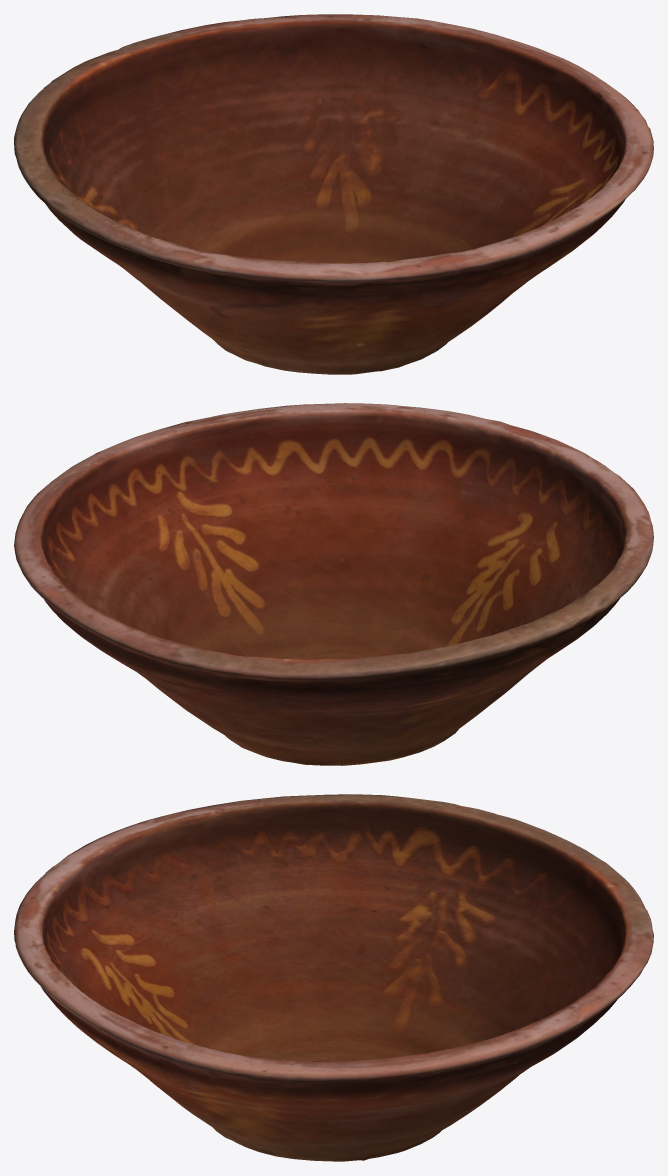
The model's file is bowl export.fbx.
3 renders of one model, top to bottom at view 1: azimuth 30°, elevation 25°; view 2: azimuth 150°, elevation 25°; view 3: azimuth 270°, elevation 25°, orthographic.
Parts seen in each view (by area): view 1: Sphere001.001; view 2: Sphere001.001; view 3: Sphere001.001.
Part boxes in pixels (x1,y1,x2,y2): Sphere001.001: (14, 14, 653, 374); Sphere001.001: (14, 403, 653, 765); Sphere001.001: (14, 794, 653, 1161).
Bounding box in the file's own units: 0.2659 × 0.0856 × 0.2651.
